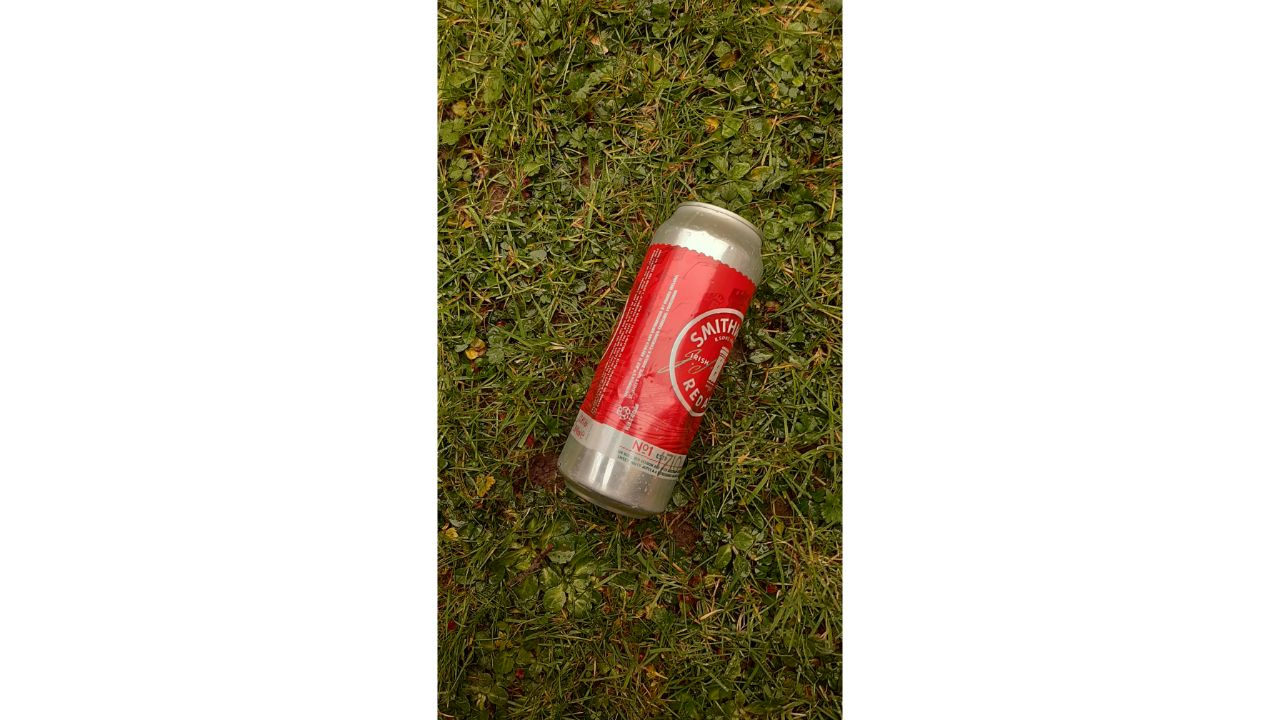Can: (556, 197, 764, 522)
